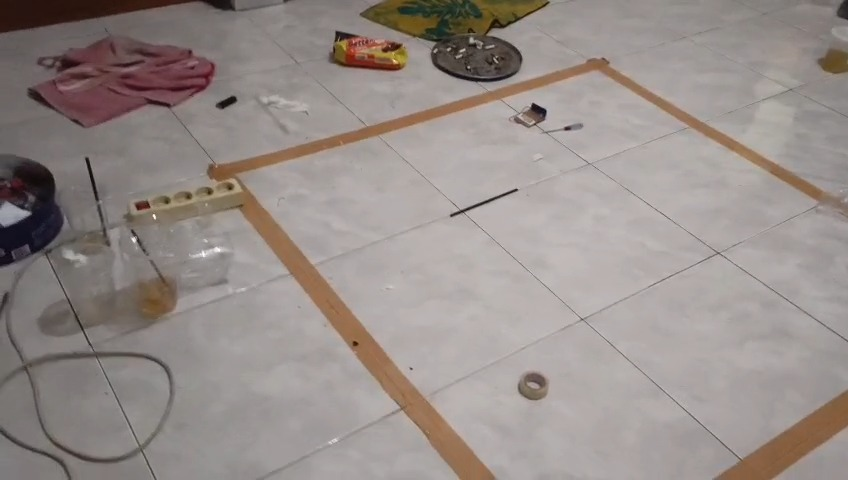floor marking: (209, 59, 834, 200), (242, 187, 492, 479), (720, 396, 847, 479)
